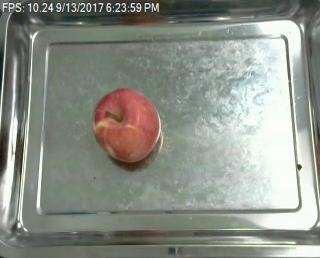apple: (92, 88, 160, 161)
